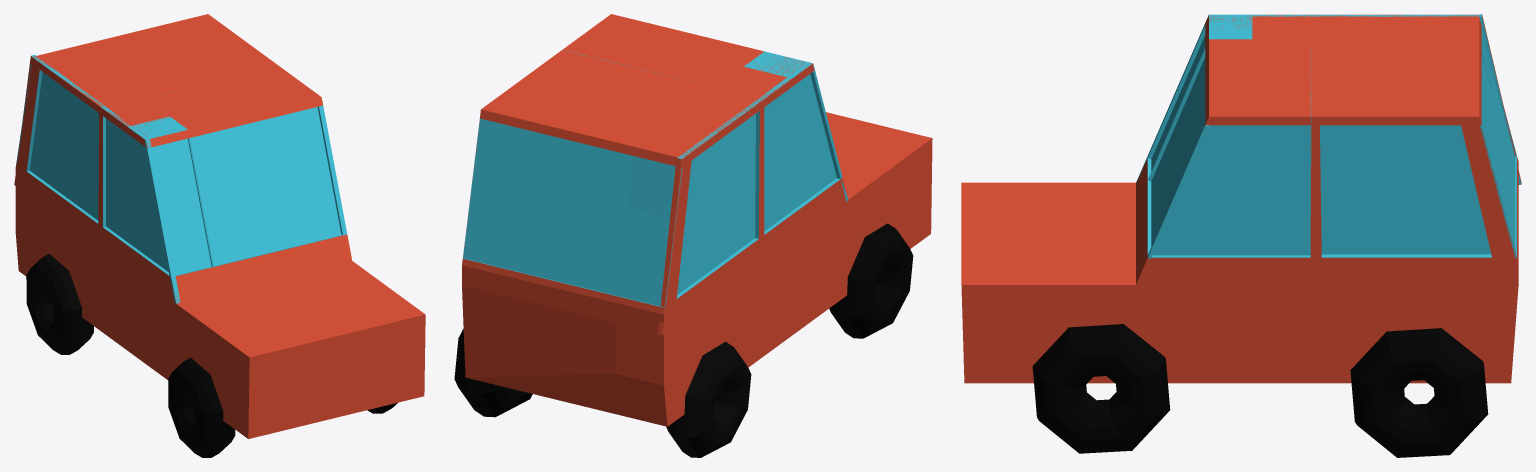
Rendered from car.fbx.
3 renders of one model, left to right at view 1: azimuth 30°, elevation 25°; view 2: azimuth 150°, elevation 25°; view 3: azimuth 270°, elevation 25°, orthographic. The views are drawn at different scales.
Visible parts, largest first — view 1: Cube, Torus.002, Torus.003; view 2: Cube, Torus.002, Torus.003, Torus.001; view 3: Cube, Torus.001, Torus.
Boxes of the visible parts, <box> form: Cube: <box>14,14,425,438</box>; Torus.002: <box>26,254,93,354</box>; Torus.003: <box>168,357,235,457</box>; Cube: <box>462,14,932,426</box>; Torus.002: <box>666,341,751,457</box>; Torus.003: <box>829,223,913,338</box>; Torus.001: <box>454,329,532,417</box>; Cube: <box>961,14,1521,383</box>; Torus.001: <box>1350,328,1488,457</box>; Torus: <box>1032,324,1170,453</box>.
Bounding box in the file's own units: 152 × 186 × 281.
